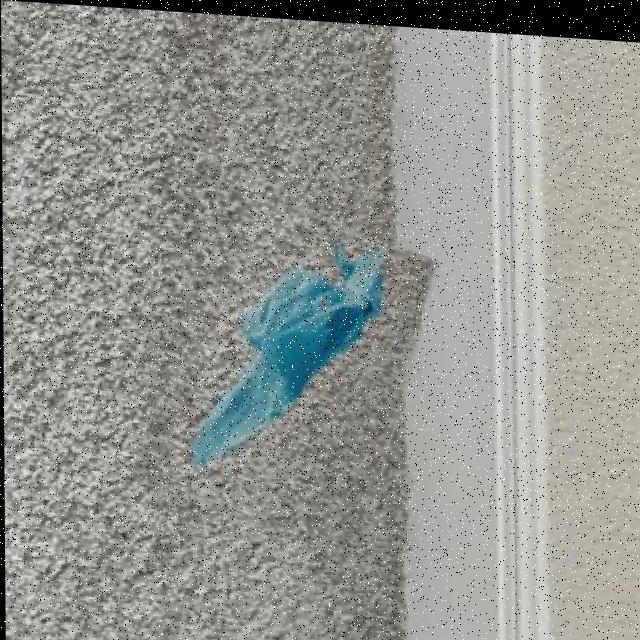plasticcover: (147, 187, 422, 546)
